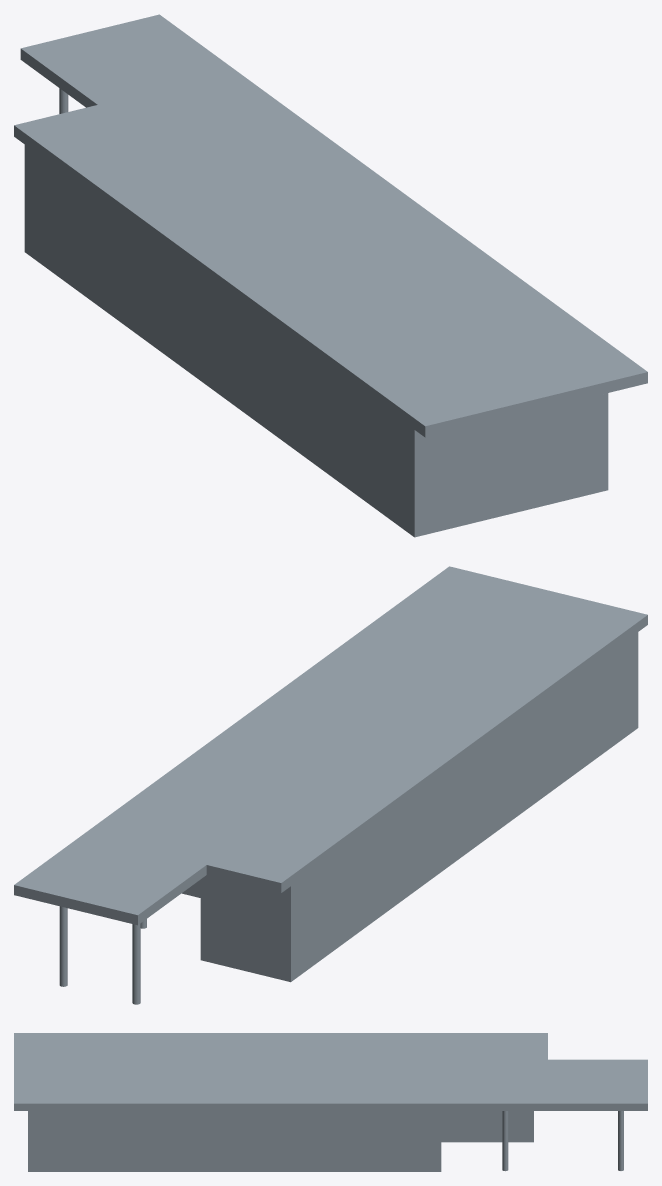
File: ikenberry.glb
3 renders of one model, top to bottom at view 1: azimuth 30°, elevation 25°; view 2: azimuth 150°, elevation 25°; view 3: azimuth 270°, elevation 25°, orthographic. The views are drawn at different scales.
Parts seen in each view (by area): view 1: ikenberry.003; view 2: ikenberry.003; view 3: ikenberry.003.
Boxes of the visible parts, bbox=[...] form: ikenberry.003: bbox=[14, 14, 647, 537]; ikenberry.003: bbox=[14, 566, 647, 1004]; ikenberry.003: bbox=[14, 1033, 647, 1171].
Size of the model in its own units: 866 by 442 by 3288.
